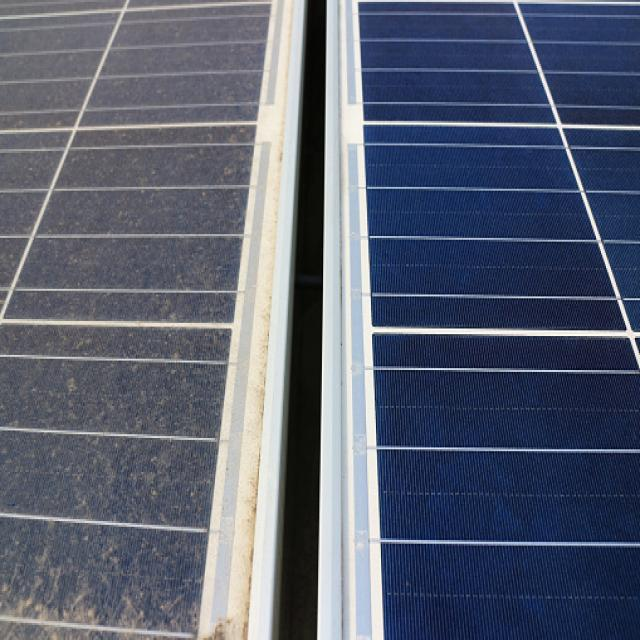faulty: (0, 3, 296, 640)
no faulty: (350, 0, 640, 640)
